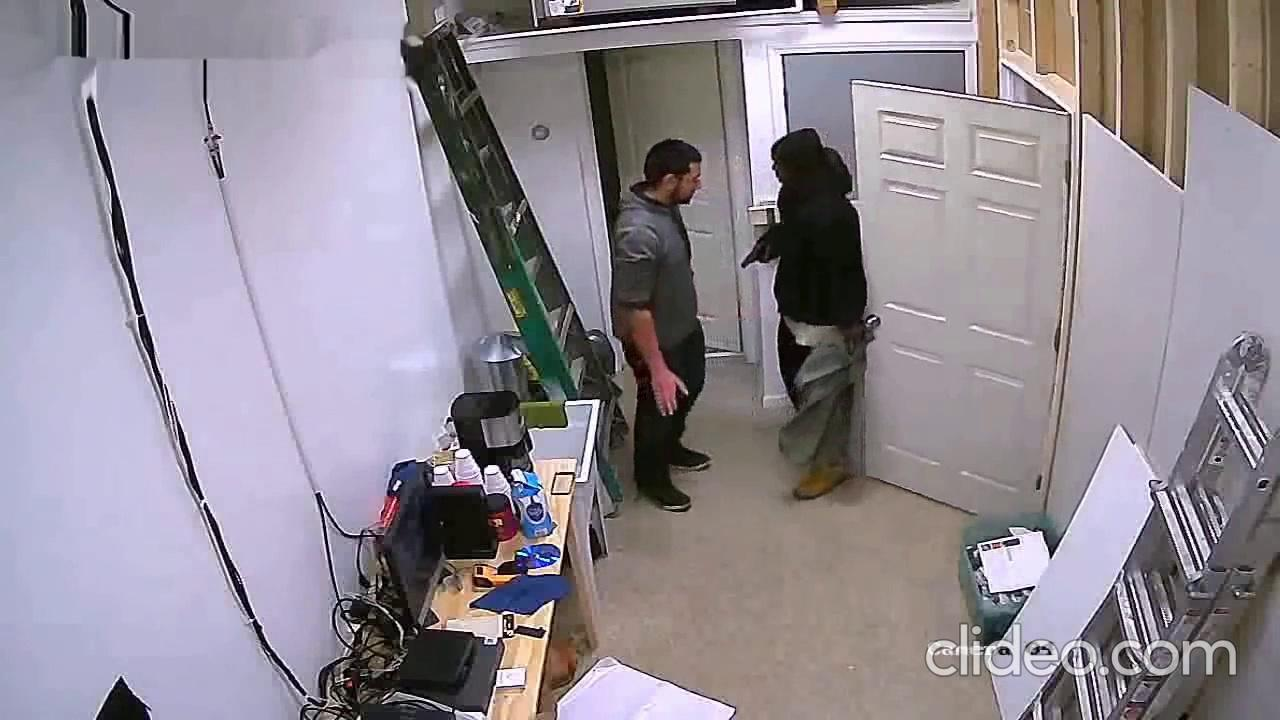person: (753, 127, 869, 503), (609, 137, 714, 514)
pistol: (740, 237, 771, 271)
